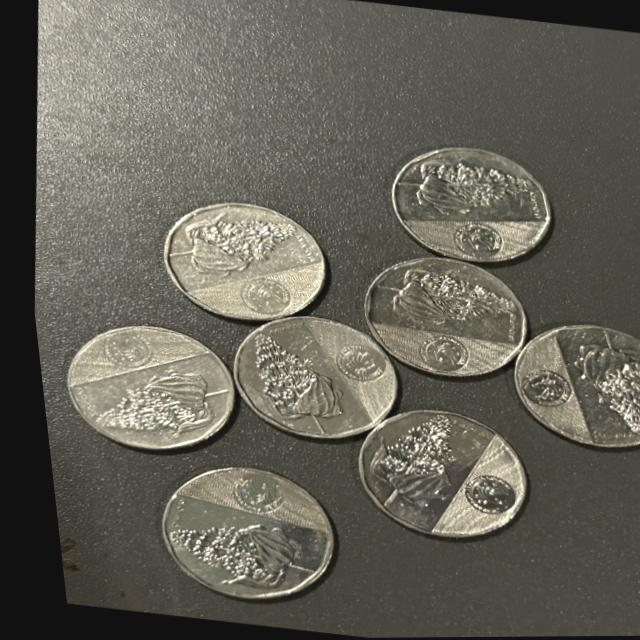10_New_Back: (150, 474, 333, 611), (387, 148, 544, 263), (353, 409, 513, 520), (226, 313, 380, 422), (75, 327, 210, 448), (160, 201, 301, 310), (365, 272, 509, 374), (513, 335, 640, 434)
